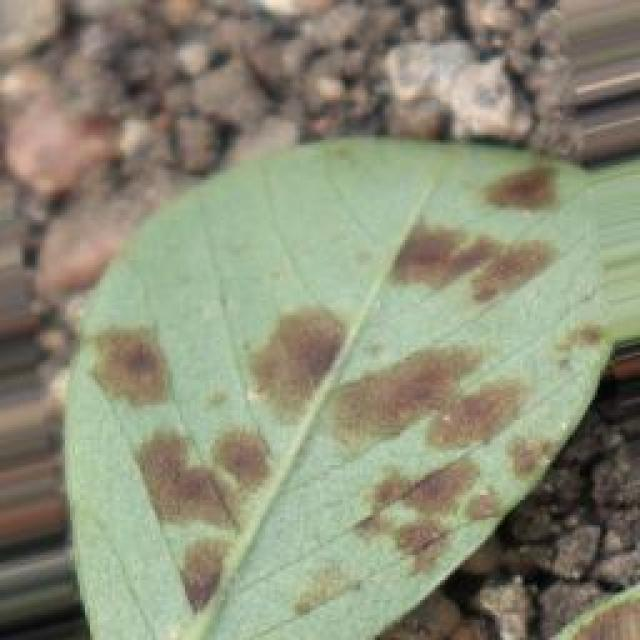Whitefly: (82, 130, 582, 640)
